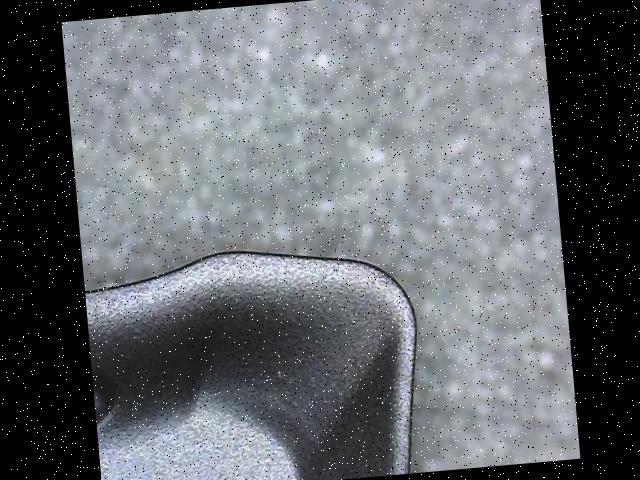normal: (83, 248, 417, 475)
